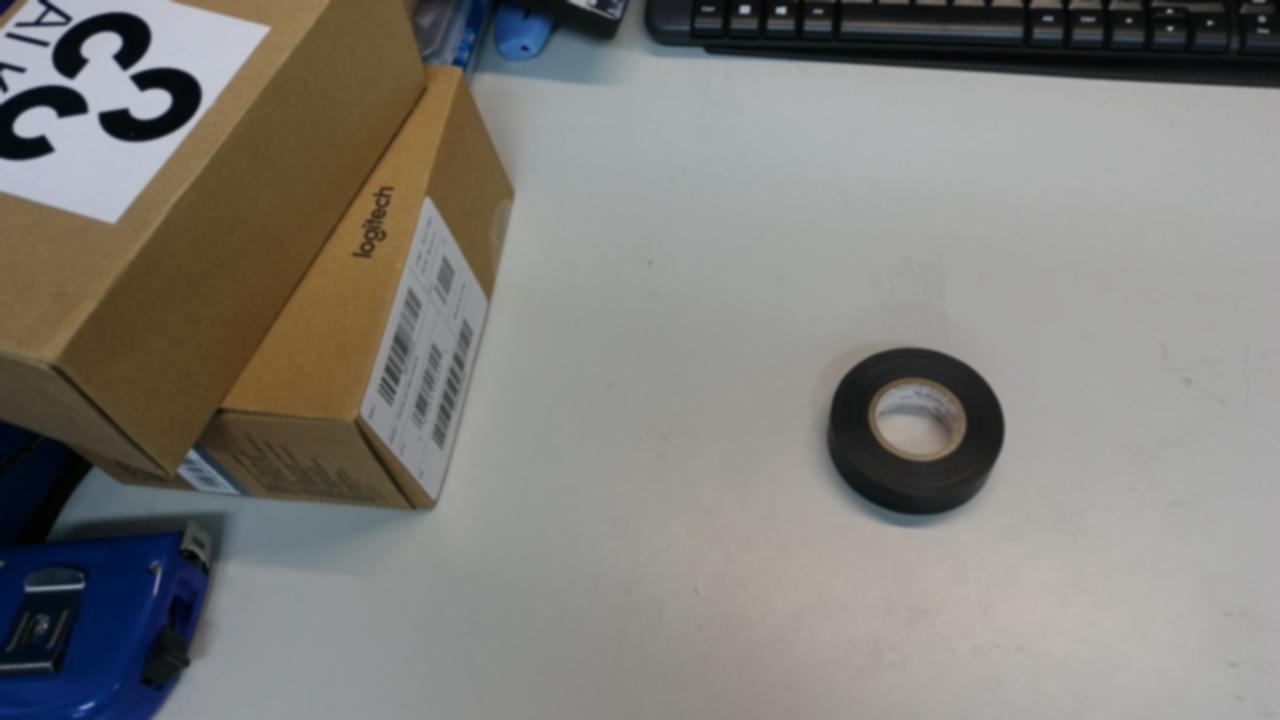circle: (857, 402, 935, 446)
